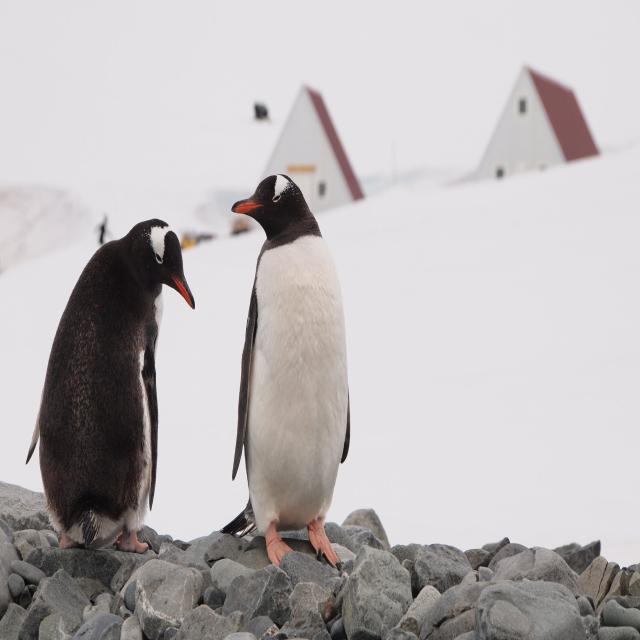Penguins: (213, 164, 361, 563), (38, 208, 194, 557)
